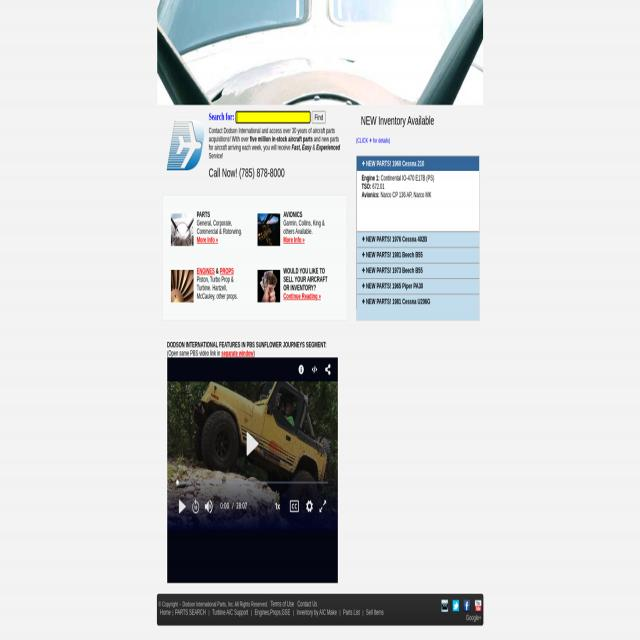button: (168, 358, 338, 584), (357, 155, 479, 232), (166, 117, 206, 175), (356, 231, 479, 247), (356, 263, 479, 279), (356, 278, 479, 294), (357, 247, 479, 263), (356, 294, 479, 309), (171, 213, 193, 246), (258, 213, 280, 246), (171, 270, 193, 302), (258, 270, 280, 302), (190, 495, 202, 519), (287, 497, 301, 516), (176, 495, 187, 518), (303, 497, 316, 516), (203, 496, 214, 518), (272, 498, 284, 516), (312, 111, 326, 124), (318, 497, 328, 515), (442, 600, 448, 612), (453, 600, 459, 612), (464, 600, 470, 612), (475, 600, 481, 612)
field: (236, 111, 310, 124)
